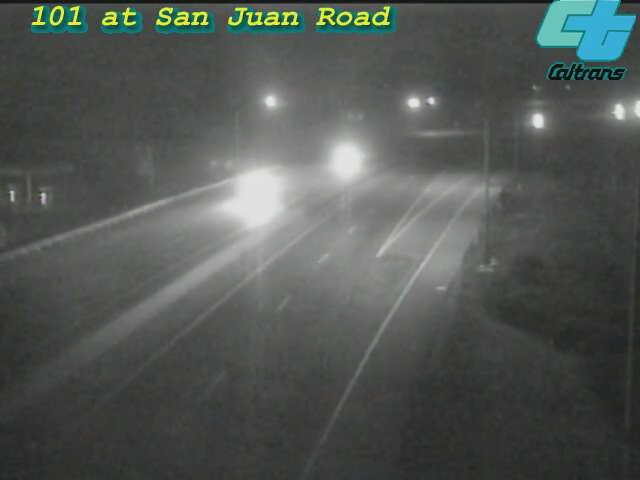vehicle: (216, 147, 296, 227), (303, 118, 383, 198), (512, 97, 562, 147), (590, 89, 640, 139), (611, 84, 640, 134)
